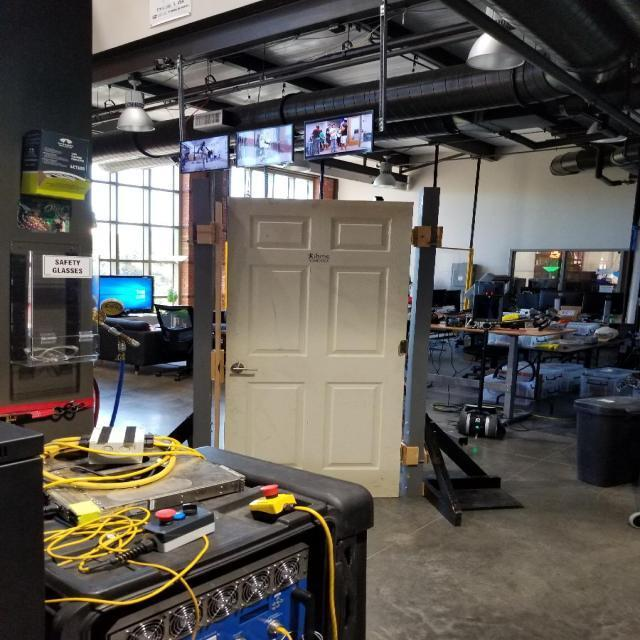door: (222, 193, 414, 504), (228, 362, 258, 376)
